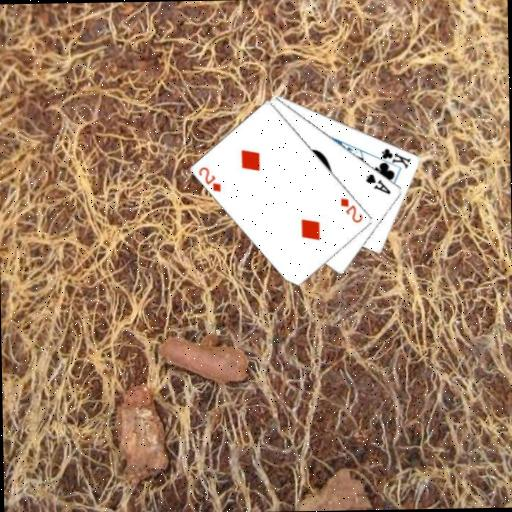2D: (337, 195, 364, 225), (196, 164, 223, 194)
AS: (363, 170, 393, 196)
KC: (374, 145, 413, 172)
